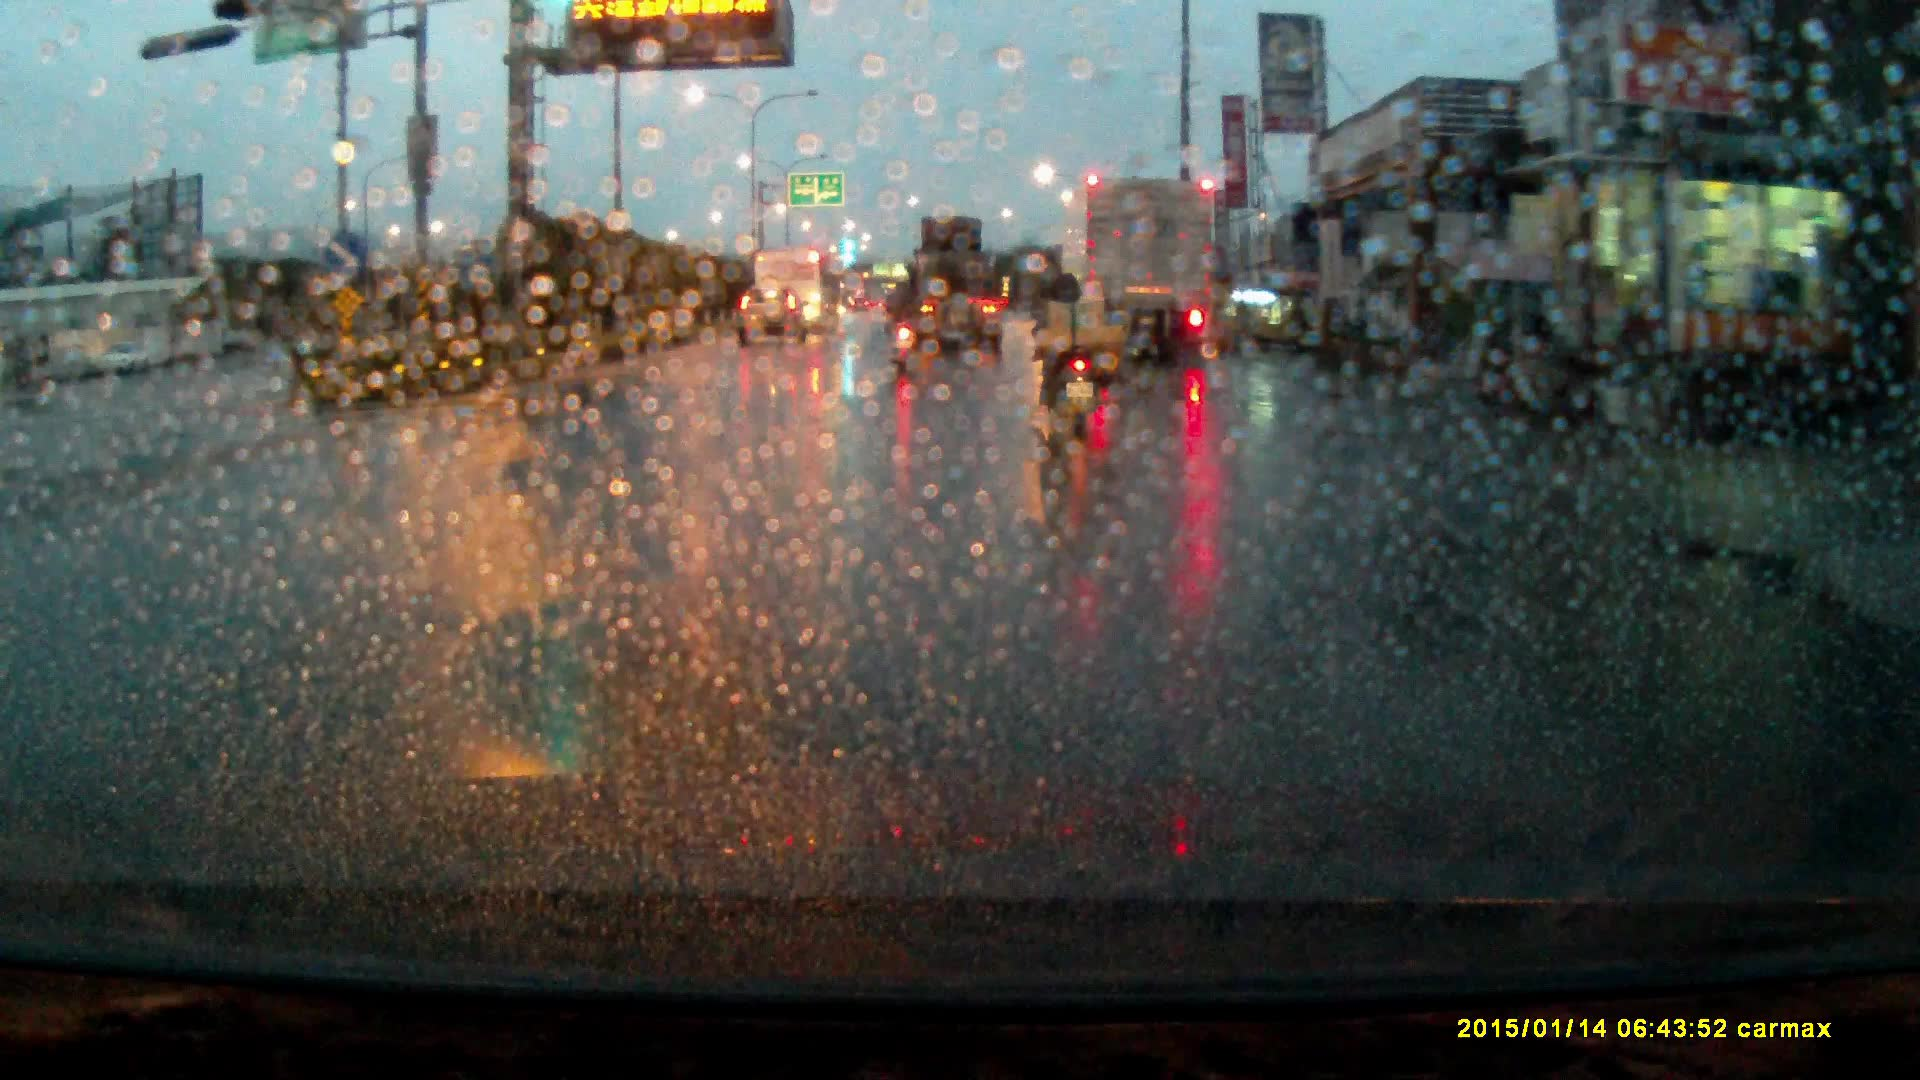rider: (1032, 264, 1115, 435), (890, 268, 927, 367)
vehicle: (1061, 179, 1222, 366), (899, 216, 1001, 359), (768, 244, 843, 327), (740, 285, 811, 351)
